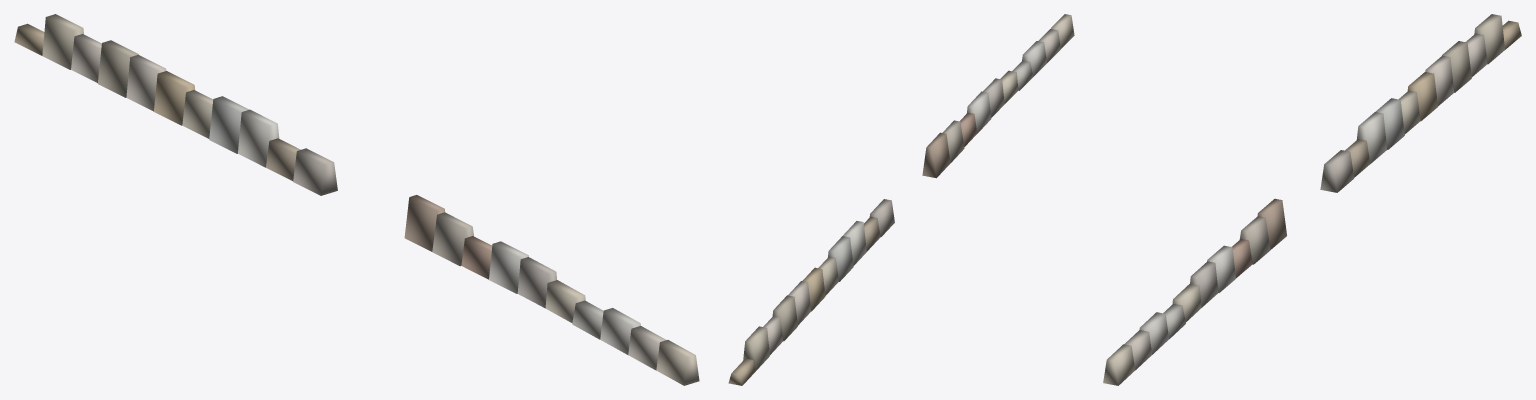
Rendered from farm_7_17_collision.glb.
3 renders of one model, left to right at view 1: azimuth 30°, elevation 25°; view 2: azimuth 150°, elevation 25°; view 3: azimuth 330°, elevation 25°, orthographic. The views are drawn at different scales.
Parts seen in each view (by area): view 1: geometry_0; view 2: geometry_0; view 3: geometry_0.
Boxes of the visible parts, x1,y1,x2,y2 form: geometry_0: (14,14,699,385); geometry_0: (728,14,1074,385); geometry_0: (1103,14,1521,385).
Bounding box in the file's own units: 4.86 × 2.7 × 38.21.
